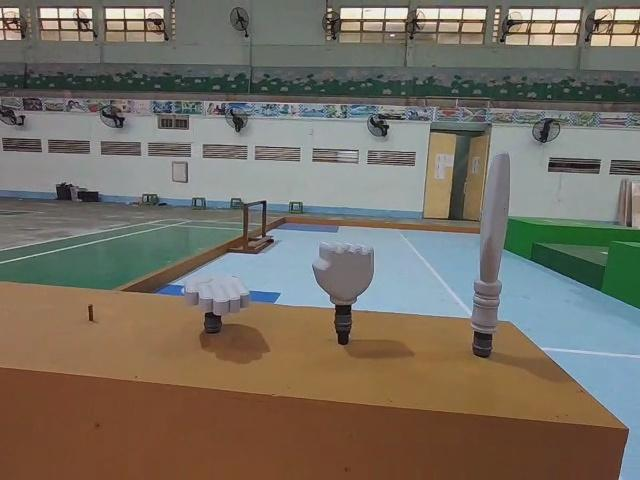Fist: (312, 222, 378, 348)
Hand: (180, 274, 250, 339)
Sph: (470, 151, 514, 372)
